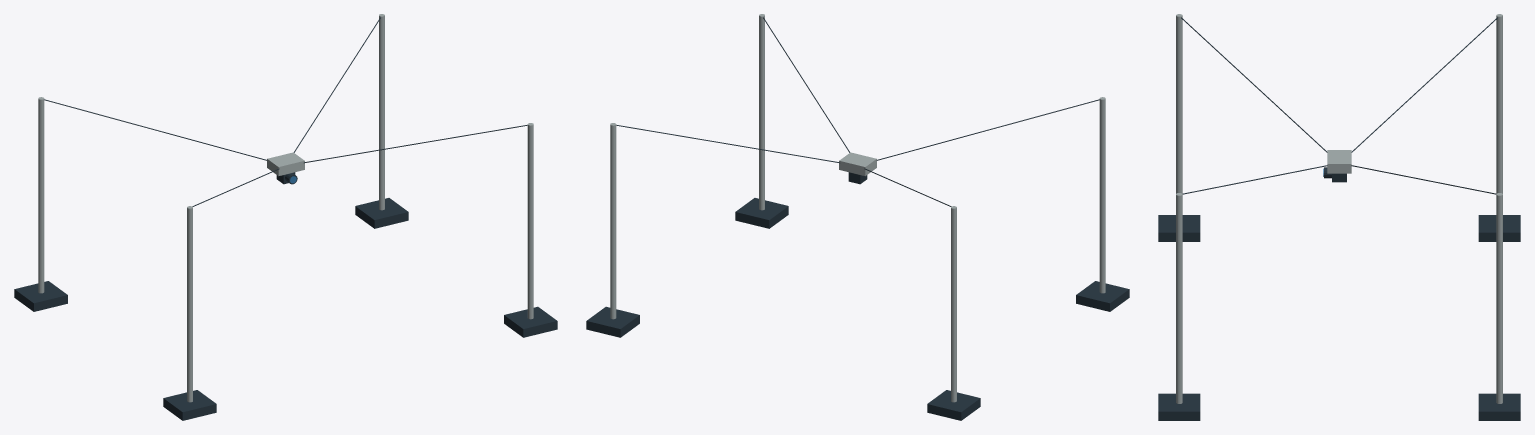
The model's file is scendance-plan-skycam.glb.
3 renders of one model, left to right at view 1: azimuth 30°, elevation 25°; view 2: azimuth 150°, elevation 25°; view 3: azimuth 270°, elevation 25°, orthographic. The views are drawn at different scales.
Bounding box in the file's own units: 8.14 × 4.2 × 6.33.
